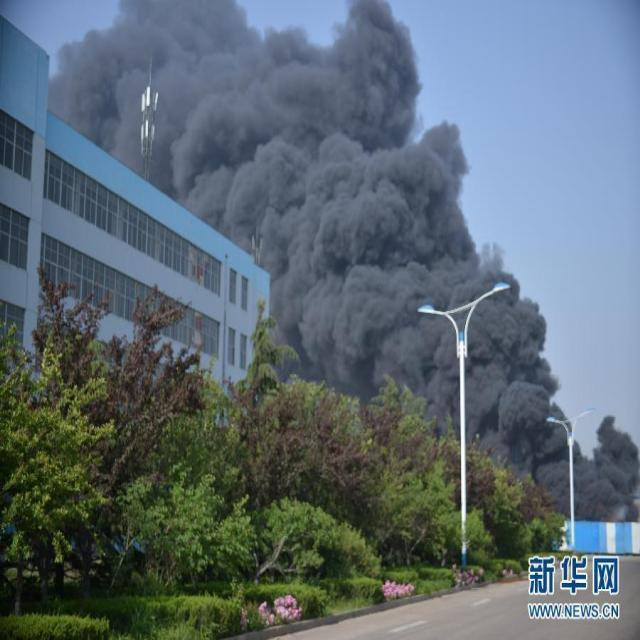Smoke: (45, 0, 640, 521)
